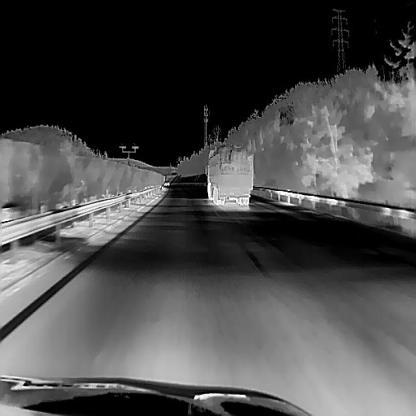car: (205, 148, 253, 204)
